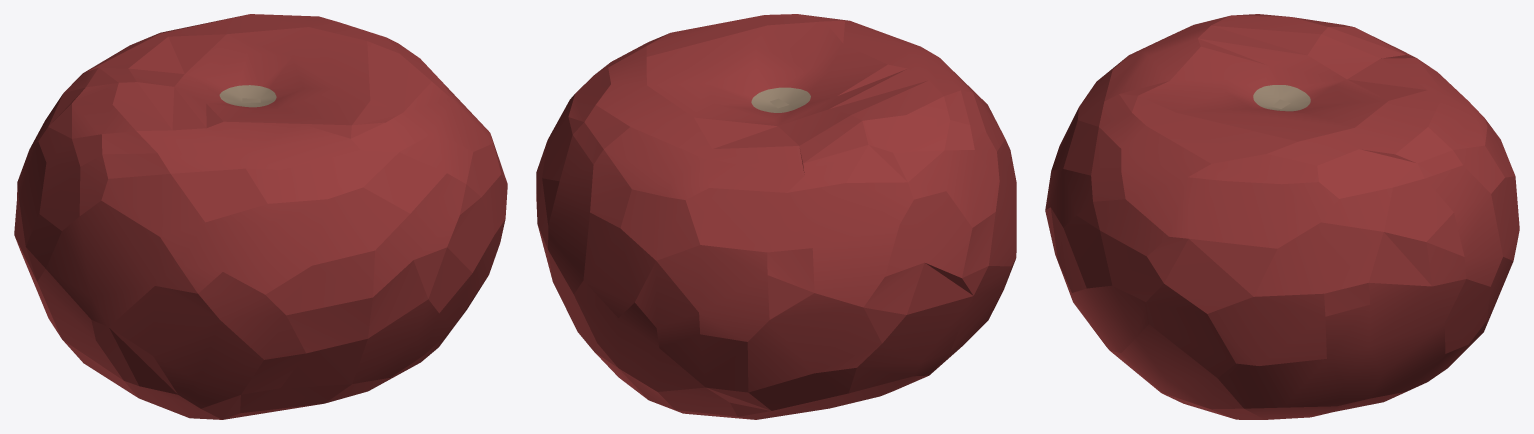
File: tomato2.FBX
3 renders of one model, left to right at view 1: azimuth 30°, elevation 25°; view 2: azimuth 150°, elevation 25°; view 3: azimuth 270°, elevation 25°, orthographic. The views are drawn at different scales.
Visible parts, largest first — view 1: tomato001; view 2: tomato001; view 3: tomato001.
Boxes of the visible parts, x1,y1,x2,y2 form: tomato001: (14,14,507,419); tomato001: (536,14,1016,419); tomato001: (1045,14,1519,419).
Bounding box in the file's own units: 15.75 × 10.37 × 15.6.
